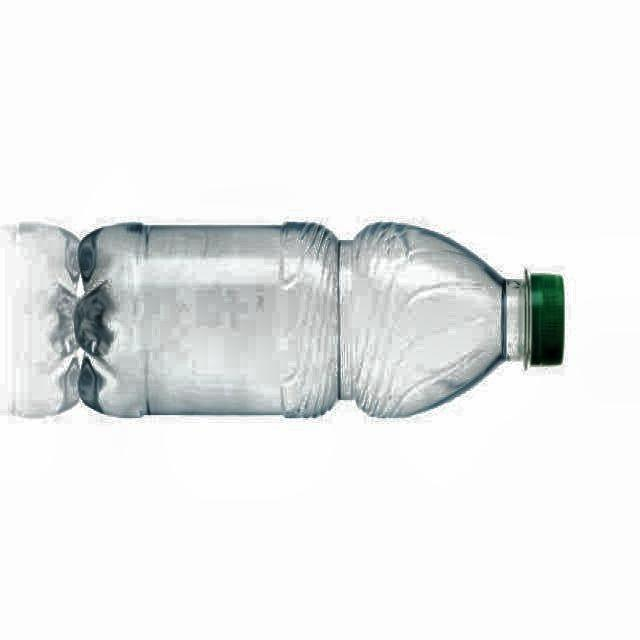plastic: (76, 222, 563, 417)
